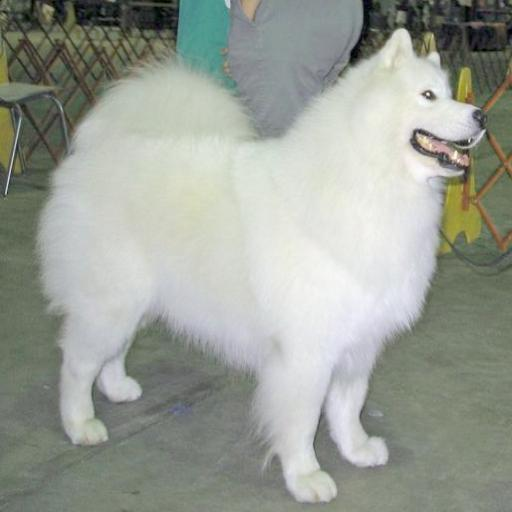dog_face: (379, 34, 489, 184)
